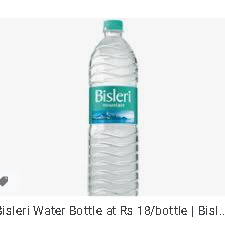Bottle: (90, 20, 139, 196)
